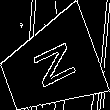N_SW: (24, 38, 78, 95)
